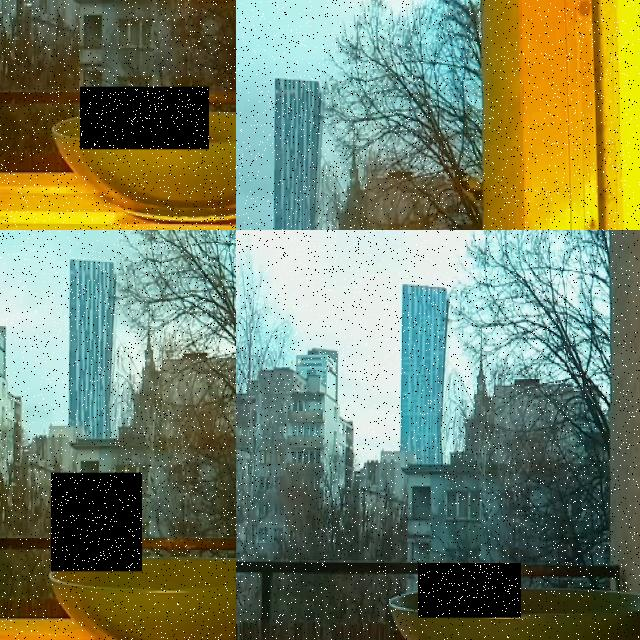Modraszka: (51, 473, 142, 571), (80, 87, 209, 149), (418, 563, 521, 618)
